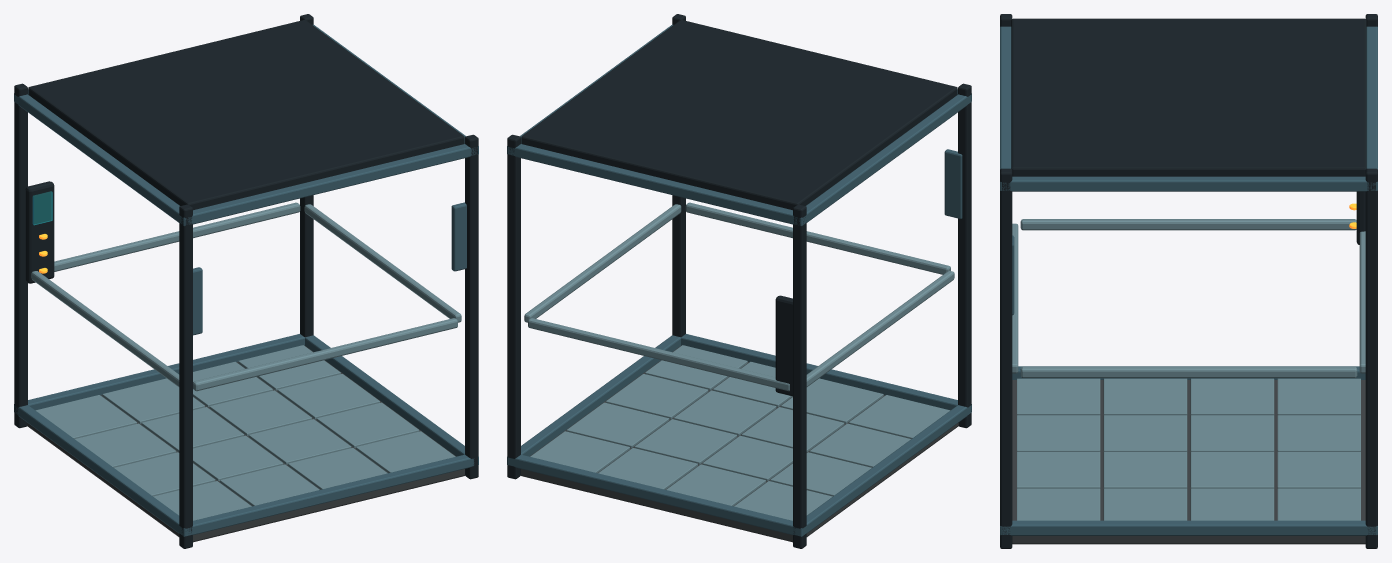
The model's file is 04_industrial_2x2.glb.
3 renders of one model, left to right at view 1: azimuth 30°, elevation 25°; view 2: azimuth 150°, elevation 25°; view 3: azimuth 270°, elevation 25°, orthographic. The views are drawn at different scales.
Parts seen in each view (by area): view 1: Ceiling_Frame, Corner_Post_-1_-1, Corner_Post_1_-1, Corner_Post_-1_1, Lower_Rail_North.003, Upper_Rail_North.003, Floor_Base.003, Lower_Rail_South.003, Lower_Rail_West.003, Upper_Rail_West.003, Handrail_North.003, Cabin_Control_Housing (+24 smaller); view 2: Ceiling_Frame, Corner_Post_-1_1, Corner_Post_1_1, Lower_Rail_South.003, Corner_Post_-1_-1, Upper_Rail_South.003, Floor_Base.003, Lower_Rail_West.003, Upper_Rail_West.003, Lower_Rail_North.003, Handrail_South.003, Handrail_North.003 (+22 smaller); view 3: Ceiling_Frame, Floor_Base.003, Lower_Rail_East.003, Upper_Rail_East.003, Corner_Post_1_-1, Corner_Post_1_1, Handrail_West.003, Handrail_East.003, Floor_Plate_0_1.003, Floor_Plate_0_2.001, Floor_Plate_0_0.003, Floor_Plate_0_3.001 (+17 smaller).
Boxes of the visible parts, <box> form: Ceiling_Frame: <box>28,20,464,210</box>; Corner_Post_-1_-1: <box>179,204,192,548</box>; Corner_Post_1_-1: <box>465,134,478,479</box>; Corner_Post_-1_1: <box>14,83,27,428</box>; Lower_Rail_North.003: <box>179,454,478,536</box>; Upper_Rail_North.003: <box>179,144,474,226</box>; Floor_Base.003: <box>27,345,464,542</box>; Lower_Rail_South.003: <box>14,334,304,414</box>; Lower_Rail_West.003: <box>18,405,192,533</box>; Upper_Rail_West.003: <box>18,94,192,225</box>; Handrail_North.003: <box>193,318,457,391</box>; Cabin_Control_Housing: <box>25,181,54,283</box>; Ceiling_Frame: <box>521,20,957,210</box>; Corner_Post_-1_1: <box>793,204,806,548</box>; Corner_Post_1_1: <box>507,134,520,479</box>; Lower_Rail_South.003: <box>515,454,806,536</box>; Corner_Post_-1_-1: <box>958,83,971,428</box>; Upper_Rail_South.003: <box>507,144,806,226</box>; Floor_Base.003: <box>521,345,958,542</box>; Lower_Rail_West.003: <box>793,405,970,536</box>; Upper_Rail_West.003: <box>793,93,971,225</box>; Lower_Rail_North.003: <box>681,334,971,413</box>; Handrail_South.003: <box>528,318,789,391</box>; Handrail_North.003: <box>685,202,950,274</box>; Ceiling_Frame: <box>1011,18,1366,176</box>; Floor_Base.003: <box>1012,380,1365,544</box>; Lower_Rail_East.003: <box>1000,520,1377,535</box>; Upper_Rail_East.003: <box>1000,176,1377,191</box>; Corner_Post_1_-1: <box>1000,168,1012,548</box>; Corner_Post_1_1: <box>1365,168,1377,548</box>; Handrail_West.003: <box>1020,219,1356,230</box>; Handrail_East.003: <box>1020,367,1357,377</box>; Floor_Plate_0_1.003: <box>1103,378,1187,415</box>; Floor_Plate_0_2.001: <box>1190,378,1274,415</box>; Floor_Plate_0_0.003: <box>1017,378,1100,415</box>; Floor_Plate_0_3.001: <box>1277,378,1360,415</box>.
Size of the model in its own units: 2 by 2.2 by 2.
